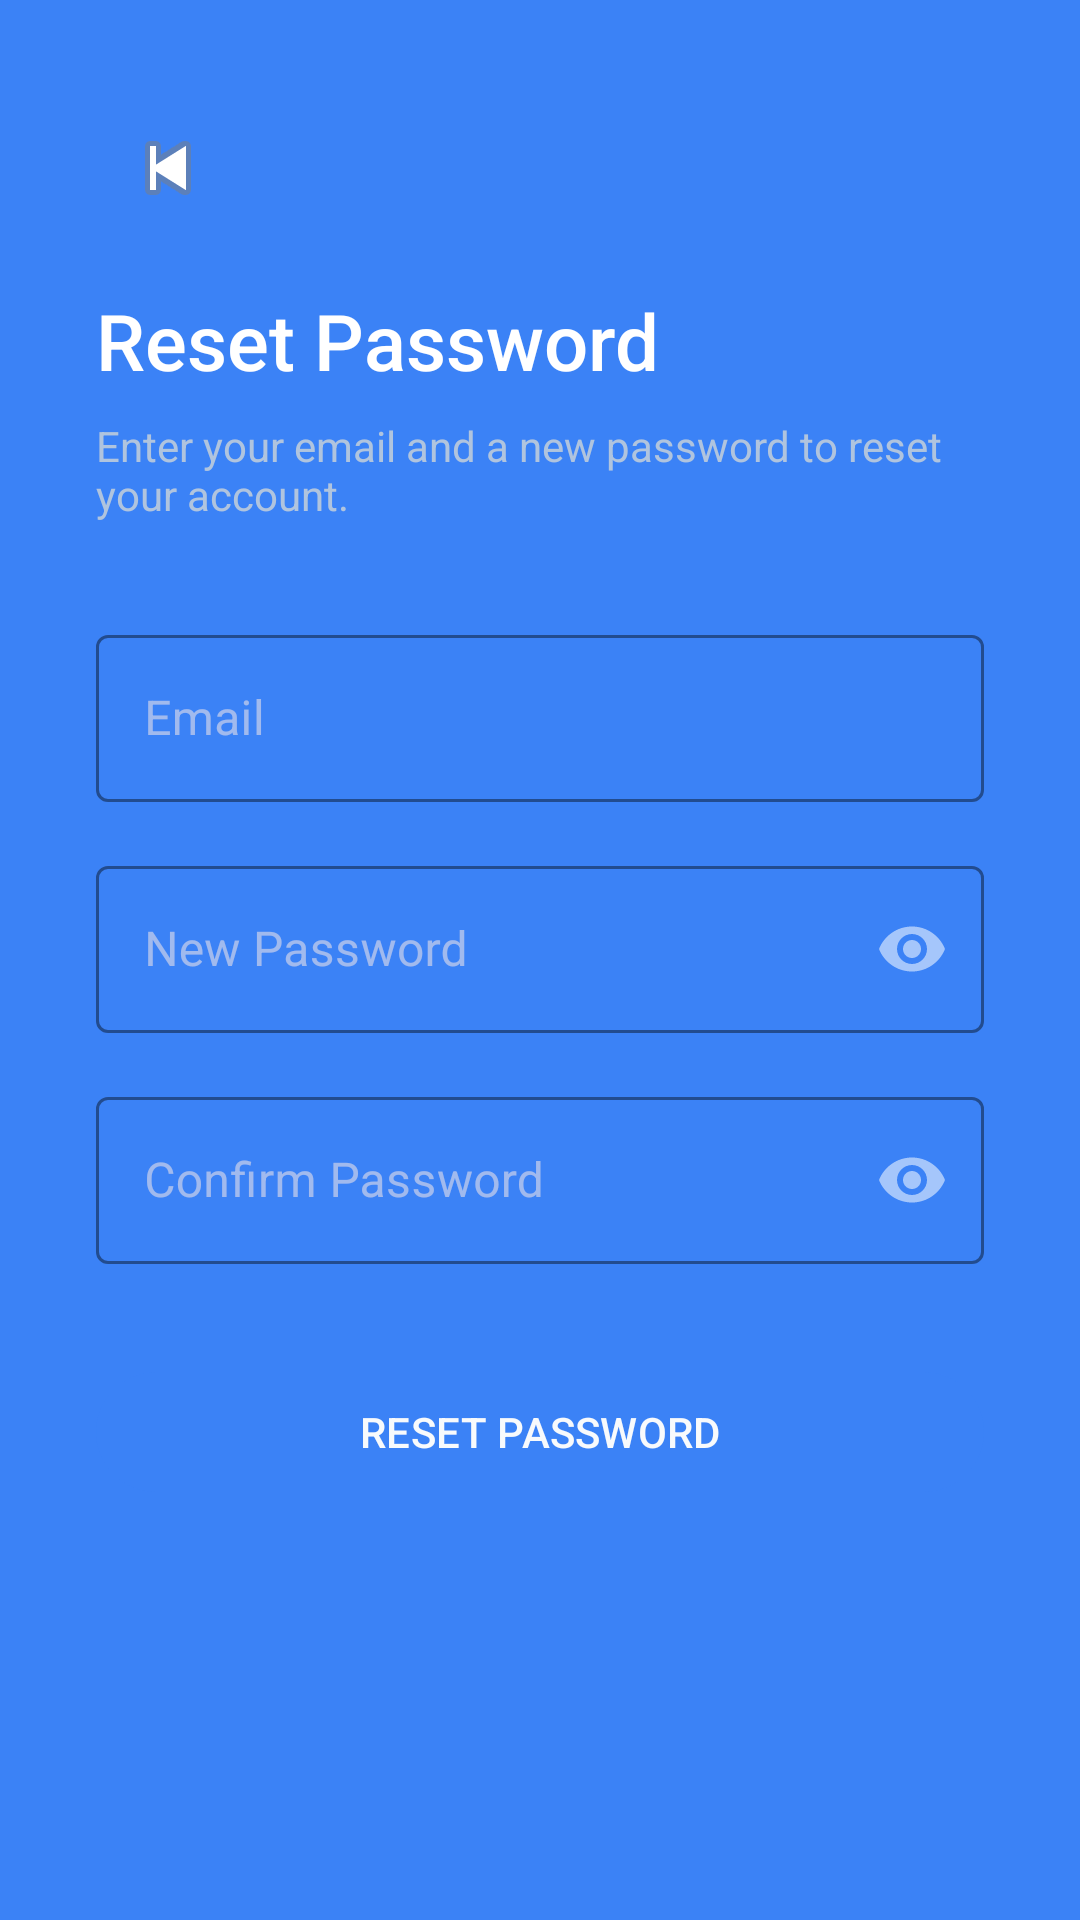

Where icons sit on this 1080x1920 app screen, as rect(x1, y1, x2, y2):
previous: rect(145, 141, 191, 195)
